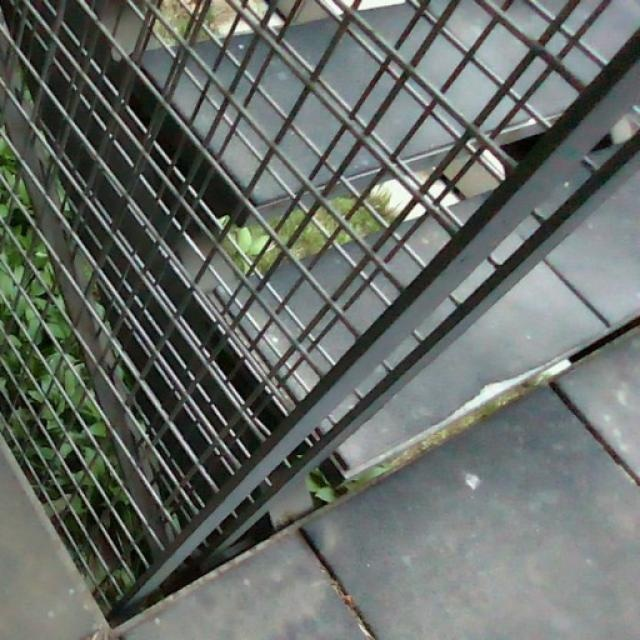stair: (203, 12, 619, 463)
